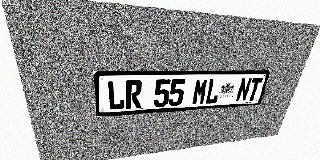5: (168, 79, 186, 106), (154, 79, 171, 107)
L: (107, 80, 125, 110), (205, 78, 222, 104)
M: (192, 79, 209, 105)
N: (235, 78, 252, 102)
R: (126, 80, 142, 109)
T: (246, 78, 263, 101)
